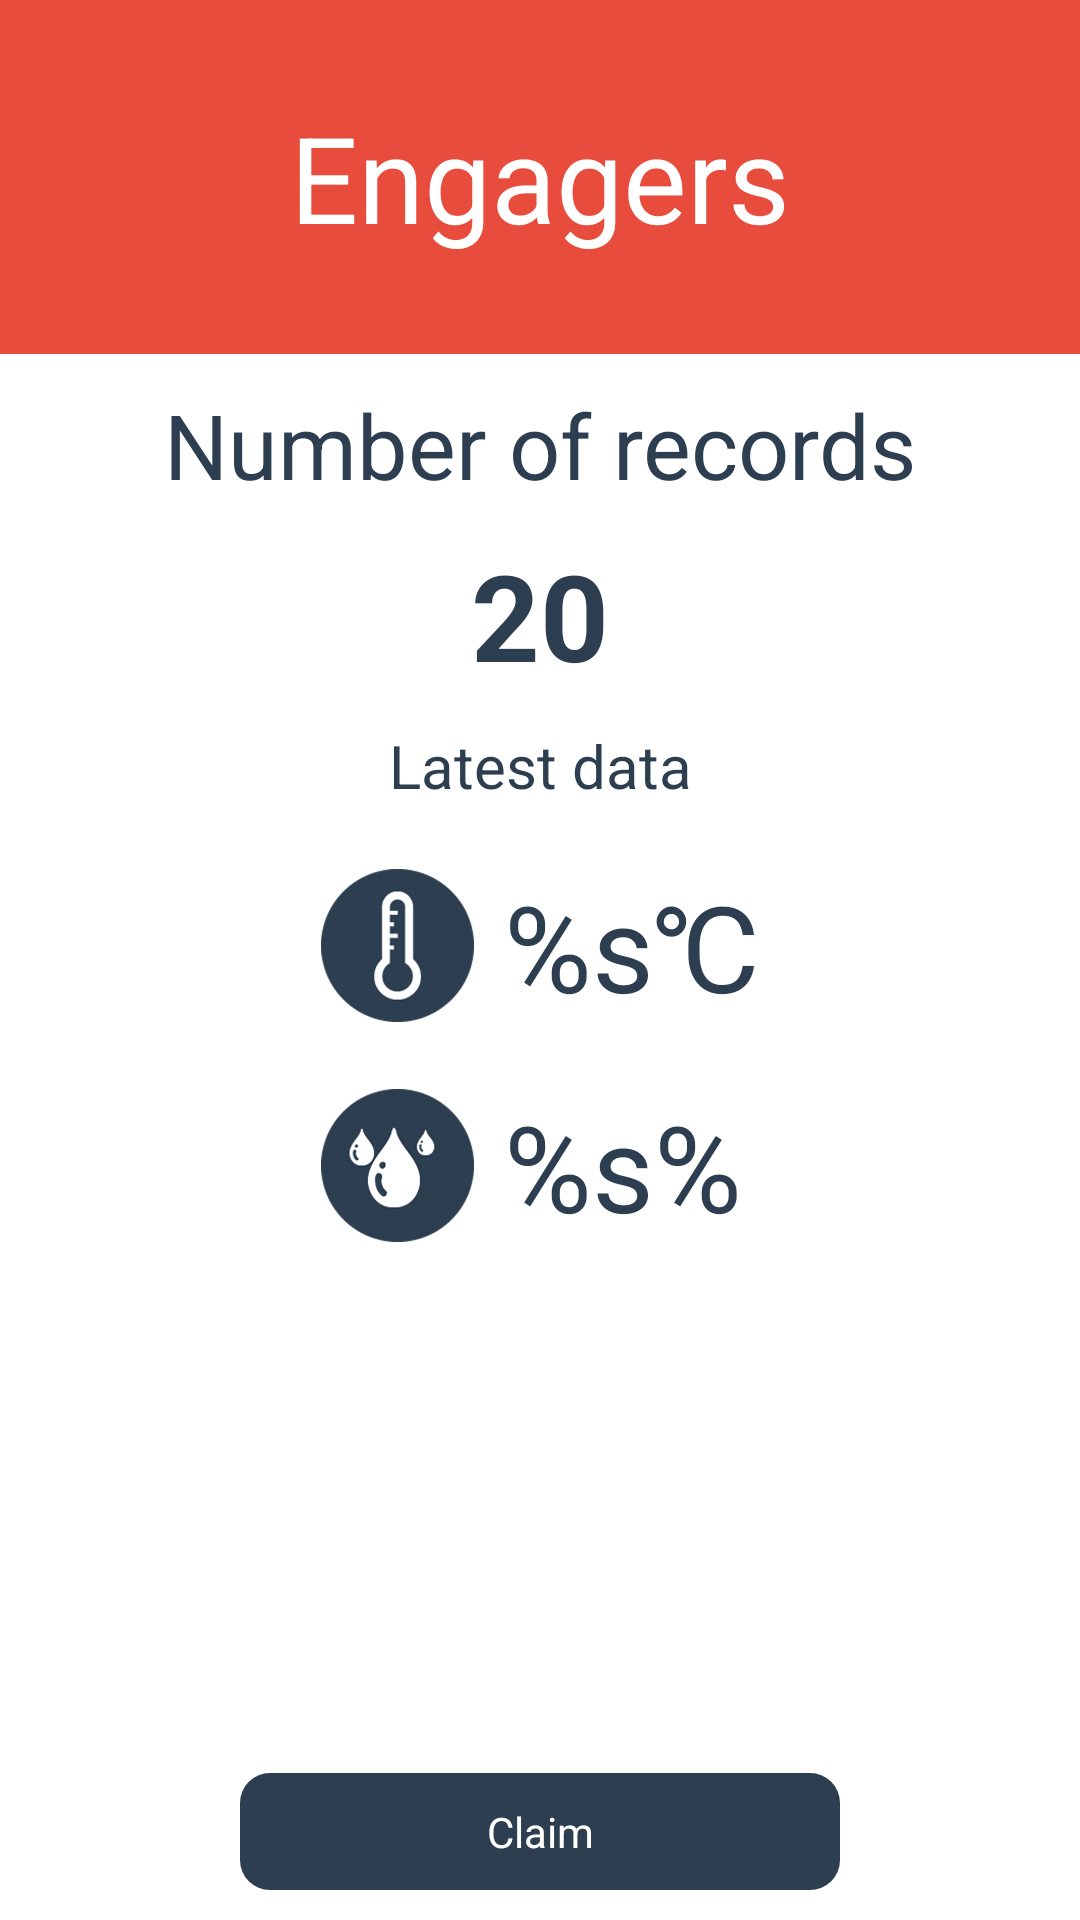

Icon bounding boxes for this 1080px×1920px phone screenshot, format [x1,y1,x2,y2]:
humidity: [321,1089,474,1242]
